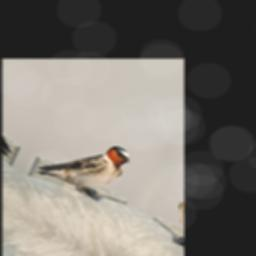Swallow: (34, 114, 134, 211)
